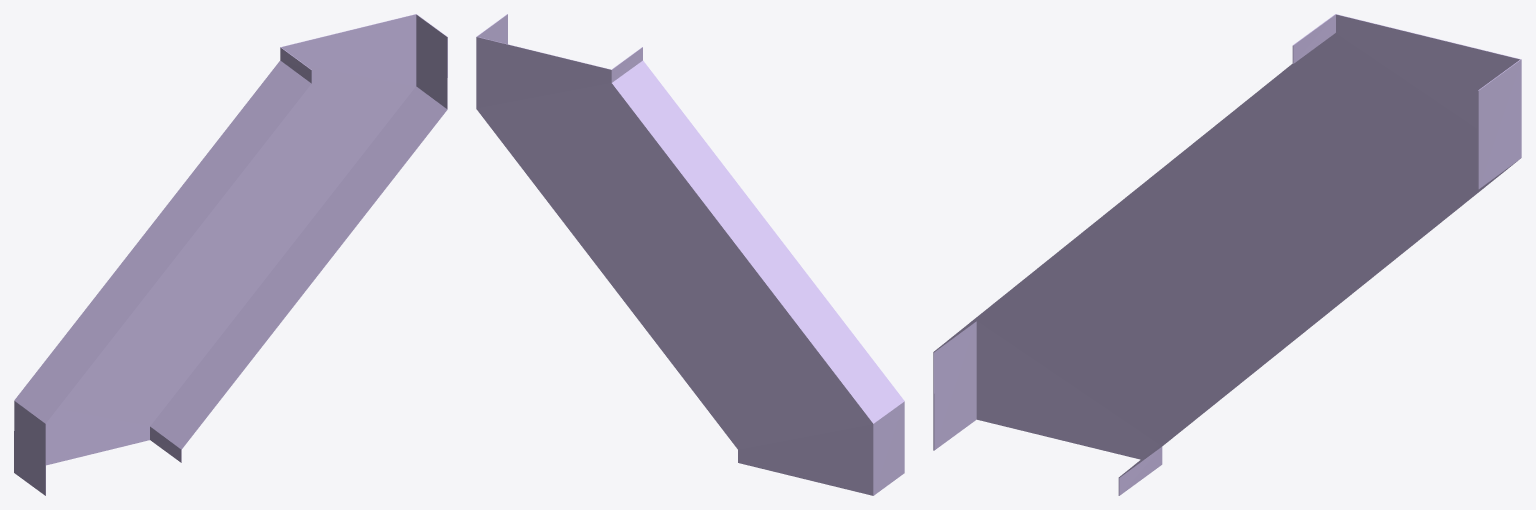
Rendered from L3-X01_45度乙字弯.glb.
3 views of the same model, side by side, from view 1: azimuth 30°, elevation 25°; view 2: azimuth 150°, elevation 25°; view 3: azimuth 330°, elevation 25° (orthographic). The views are drawn at different scales.
Visible parts, largest first — view 1: L3-X01; view 2: L3-X01; view 3: L3-X01.
Boxes of the visible parts, x1,y1,x2,y2 form: L3-X01: (14, 14, 447, 495); L3-X01: (476, 14, 904, 495); L3-X01: (933, 14, 1521, 495).
Size of the model in its own units: 1.47 by 1.27 by 0.2099.
